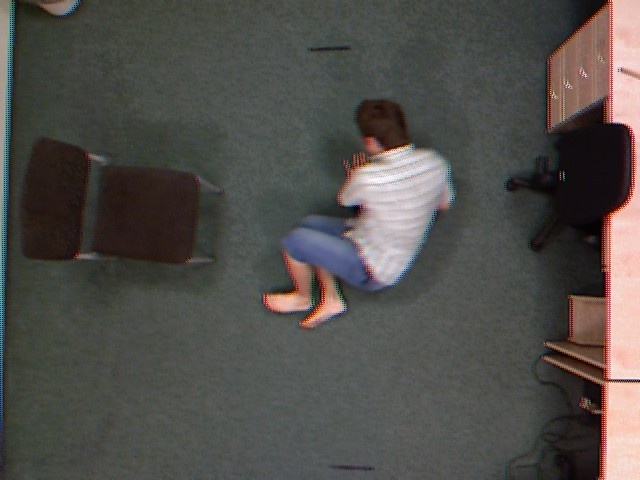fall: (260, 91, 463, 331)
